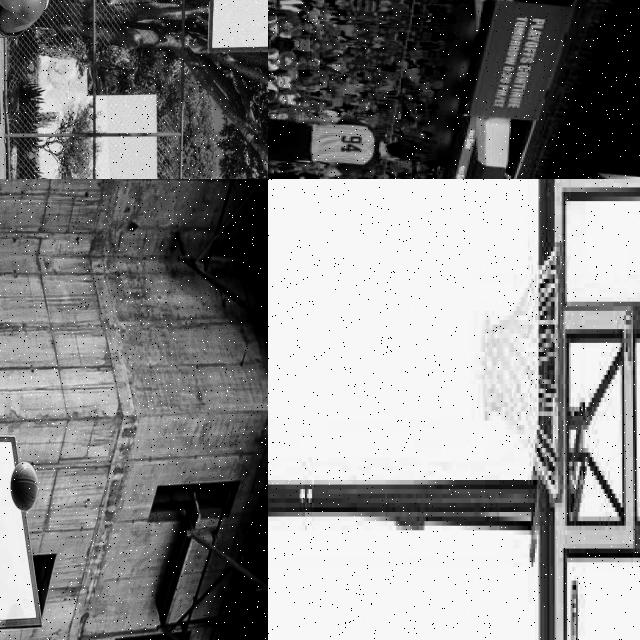backboard: (544, 179, 640, 640), (0, 436, 40, 628)
